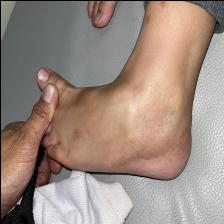DA: (63, 113, 113, 152)
